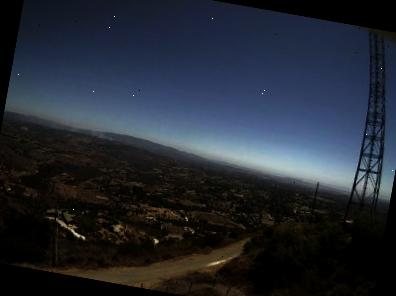smoke: (39, 111, 121, 143)
